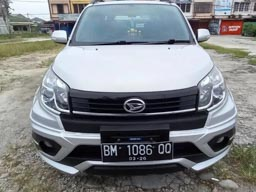plat: (102, 143, 172, 155)
